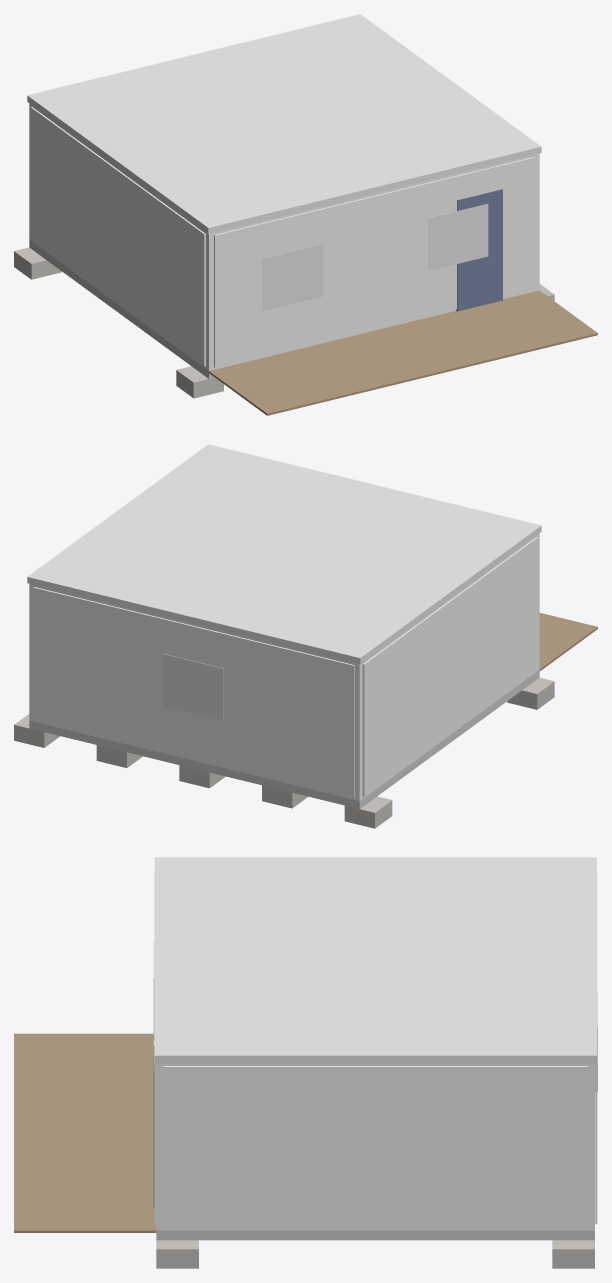
File: Studio-20-TerraceDeck-LOD0.glb
3 views of the same model, one above another, from view 1: azimuth 30°, elevation 25°; view 2: azimuth 150°, elevation 25°; view 3: azimuth 270°, elevation 25° (orthographic). The views are drawn at different scales.
Visible parts, largest first — view 1: RoofMain, ExteriorPanelsStandard, TerraceDeck, WindowsStandard, ExteriorShell, EntryDoor, FoundationBlocks, BaseFrame; view 2: ExteriorPanelsStandard, RoofMain, FoundationBlocks, ExteriorShell, BaseFrame, WindowsStandard, TerraceDeck; view 3: RoofMain, ExteriorPanelsStandard, TerraceDeck, ExteriorShell, BaseFrame, FoundationBlocks.
Part boxes in pixels (x1,y1,x2,y2): RoofMain: (27,14,541,234); ExteriorPanelsStandard: (30,107,535,367); TerraceDeck: (209,290,597,415); WindowsStandard: (262,203,488,311); ExteriorShell: (29,103,539,370); EntryDoor: (456,189,502,311); FoundationBlocks: (14,247,554,398); BaseFrame: (29,240,214,378); ExteriorPanelsStandard: (33,537,538,797); RoofMain: (27,444,541,664); FoundationBlocks: (14,677,554,828); ExteriorShell: (29,533,539,801); BaseFrame: (29,670,539,808); WindowsStandard: (163,653,223,721); TerraceDeck: (539,613,597,671); RoofMain: (154,857,596,1063); ExteriorPanelsStandard: (154,872,597,1228); TerraceDeck: (14,1033,156,1232); ExteriorShell: (156,1063,594,1230); BaseFrame: (156,1230,594,1240); FoundationBlocks: (156,1240,594,1268).
Size of the model in its own units: 7.14 by 3.17 by 8.2.
